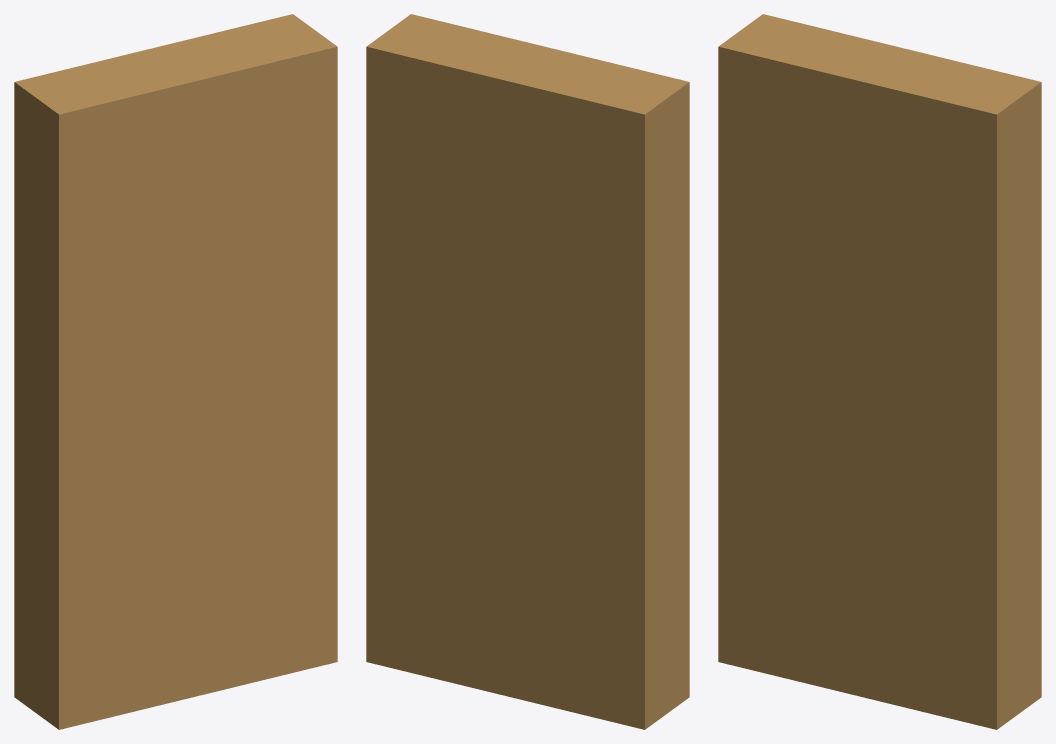
The picture shows the model from 3 angles, left to right: view 1: azimuth 30°, elevation 25°; view 2: azimuth 150°, elevation 25°; view 3: azimuth 330°, elevation 25°; orthographic projection.
Visible parts, largest first — view 1: RUN-081-S00-STUD-00-p2; view 2: RUN-081-S00-STUD-00-p2; view 3: RUN-081-S00-STUD-00-p2.
Boxes of the visible parts, x1,y1,x2,y2 form: RUN-081-S00-STUD-00-p2: (14, 14, 337, 729); RUN-081-S00-STUD-00-p2: (366, 14, 689, 729); RUN-081-S00-STUD-00-p2: (718, 14, 1041, 729).
Bounding box in the file's own units: 0.09 × 0.19 × 0.025.
